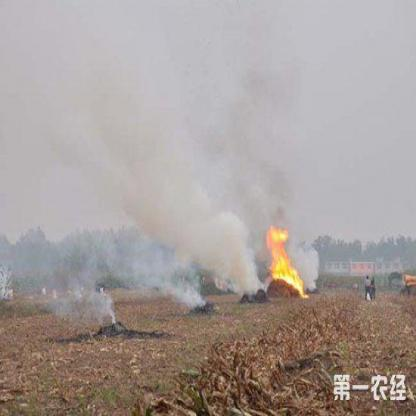fire: (260, 218, 310, 300)
smoke: (116, 118, 255, 292), (217, 94, 317, 288), (168, 280, 199, 307), (94, 295, 118, 320)
